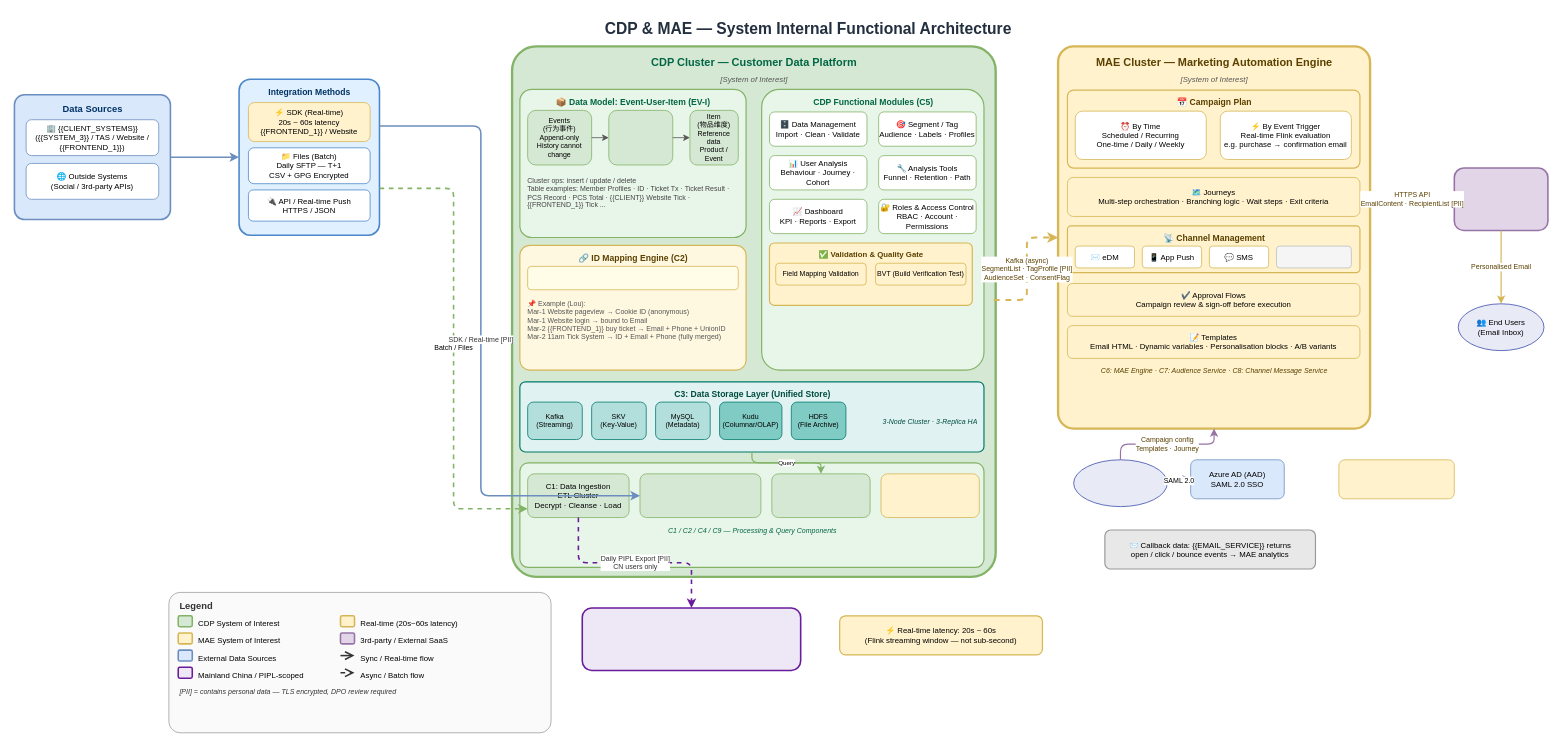
The diagram is 1562 pixels wide and 746 high, and some of its shapes have lost their labels. Each missing label, with the box of its shape:
... Future: (1276, 245, 1351, 268)
C2: Data Access & ID Resolution Nginx · ID-Mapping · Data Loader: (639, 473, 761, 518)
C4: Query Engine Impala / Luman Funnel · Cohort · Report: (771, 473, 870, 518)
C9: SFO Online Service Sub-ms · SKV · High QPS Personalisation API: (880, 473, 979, 518)
Cookie ID → Email → Phone → UnionID → MUID → Login ID: (527, 266, 738, 290)
Users (用户档案) Can update/change Upsert supported: (608, 110, 673, 165)
{{EMAIL_SERVICE}} External ESP (SaaS): (1453, 167, 1548, 231)
↑ External downstream systems call C9 SFO for real-time user attribute lookups: (1338, 459, 1454, 499)
🇨🇳 SFTP Server (SZ Env) Mainland China VPC PIPL Compliance — data at rest in CN: (581, 607, 801, 671)
👤 {{BUSINESS_USER}} (CDP / MAE Web UI): (1073, 459, 1167, 507)
